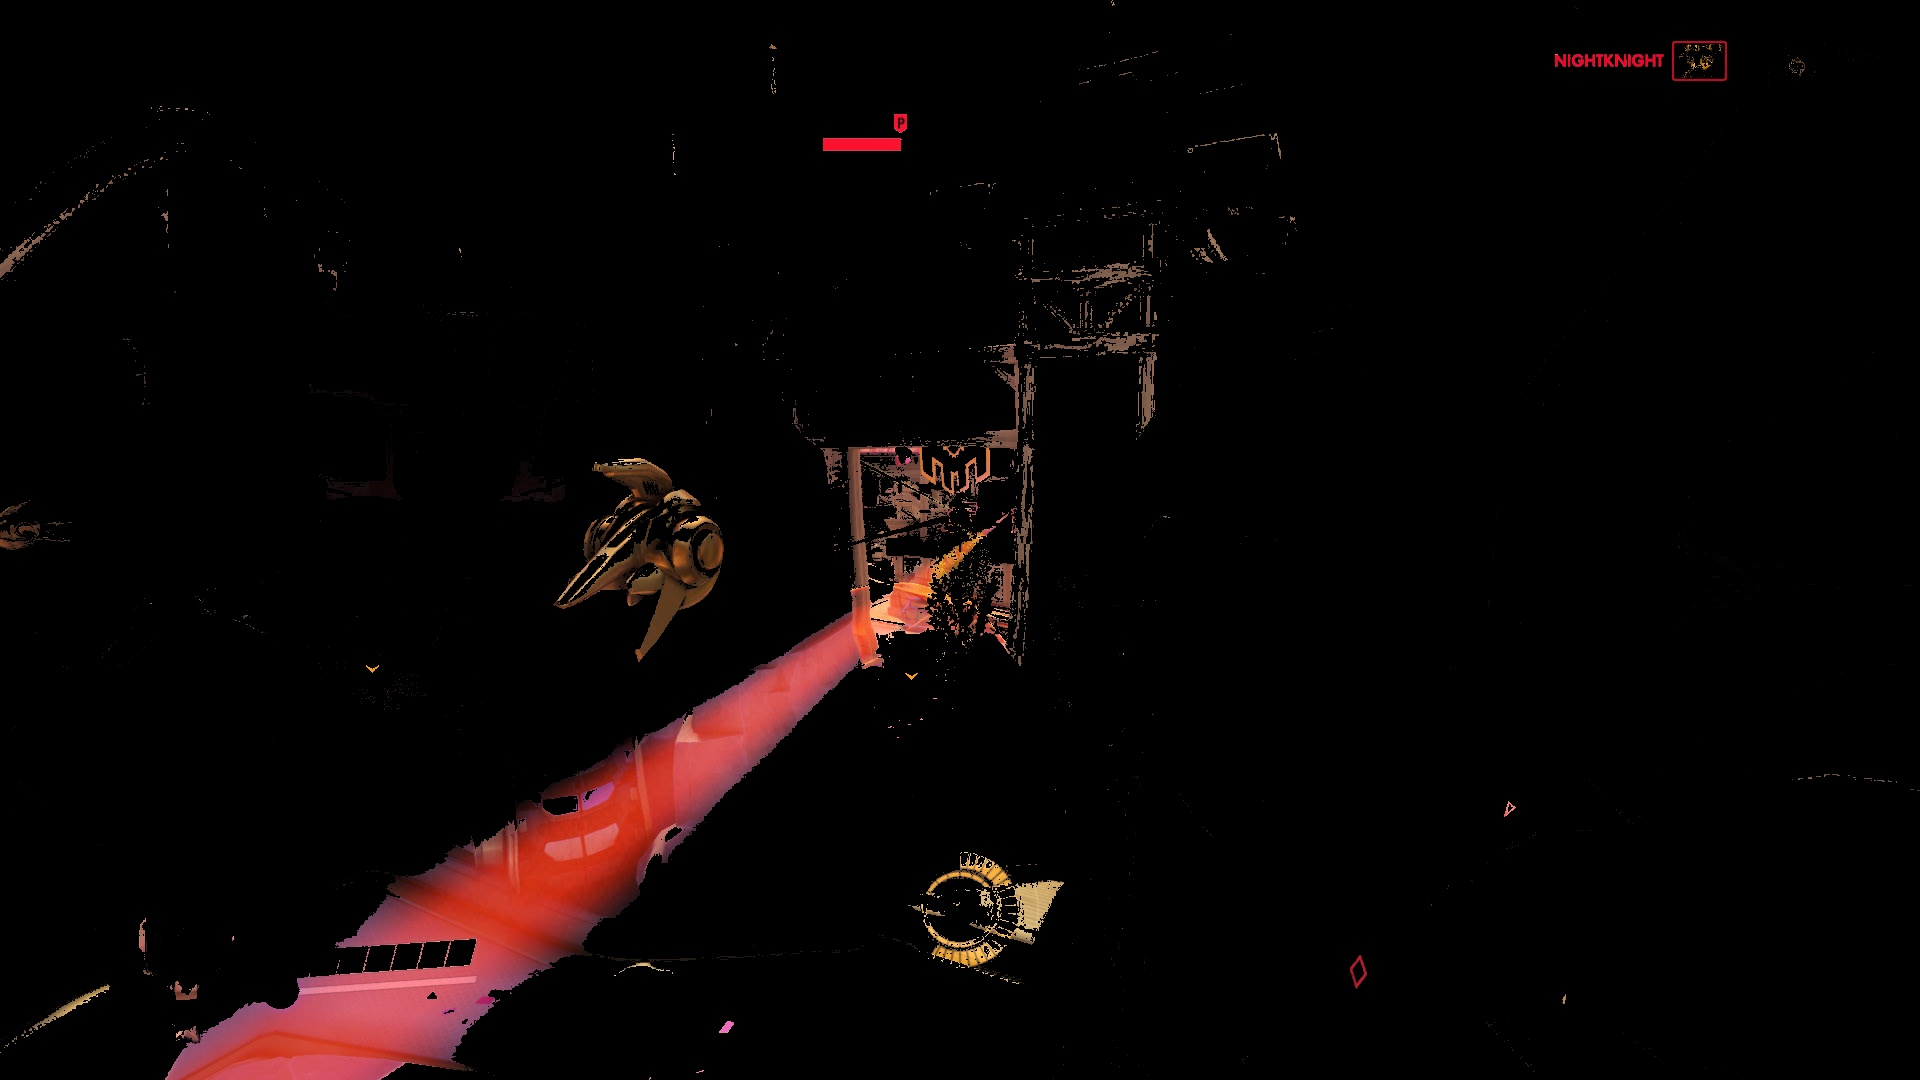widowmaker: (1009, 506, 1021, 539)
